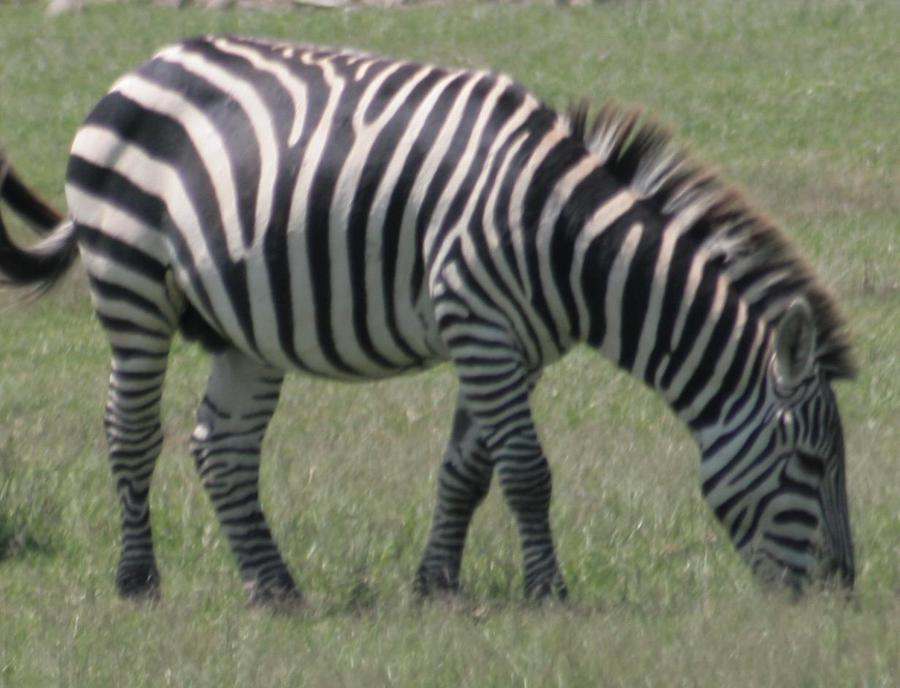zebra_plains: (23, 38, 595, 406)
